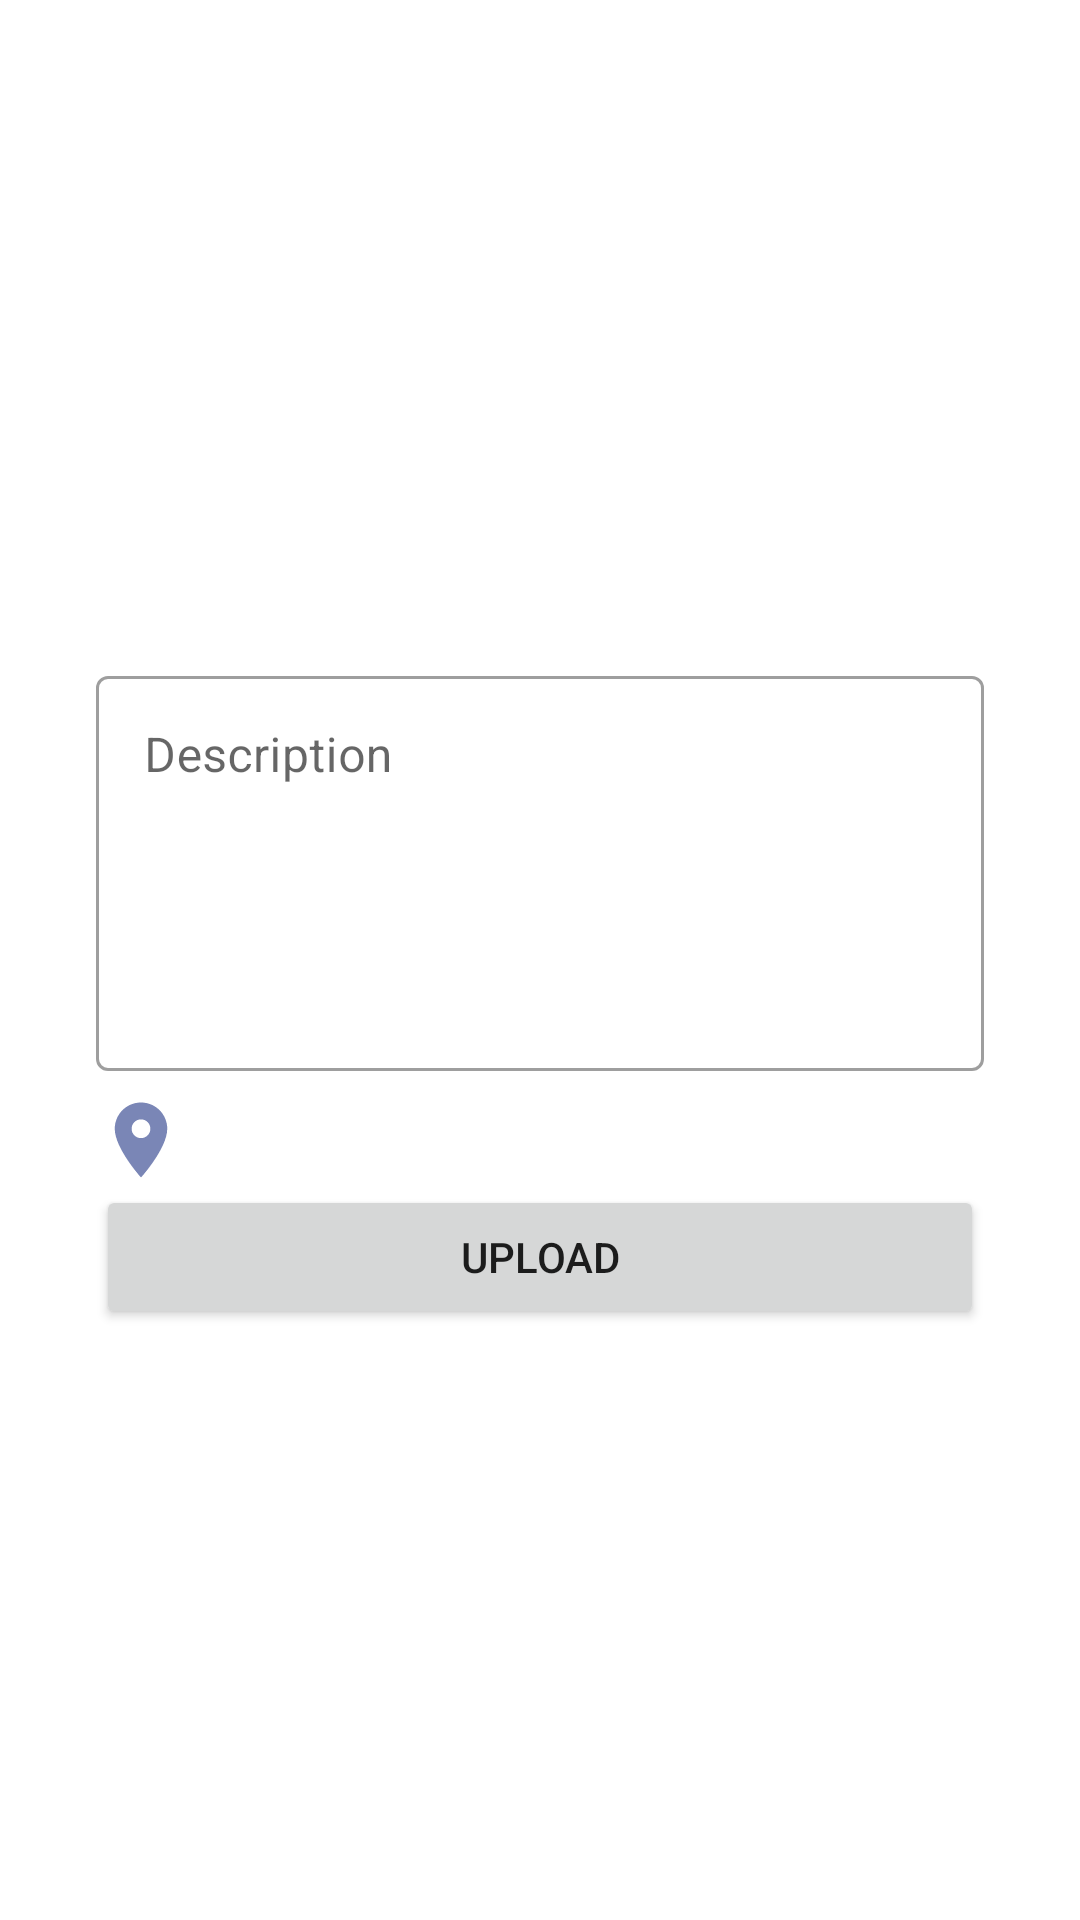

Locate icon controls on the screen. Image size 1080 x 1920, boxes as (x1, y1, x2, y2).
location: (114, 1102, 168, 1177)
